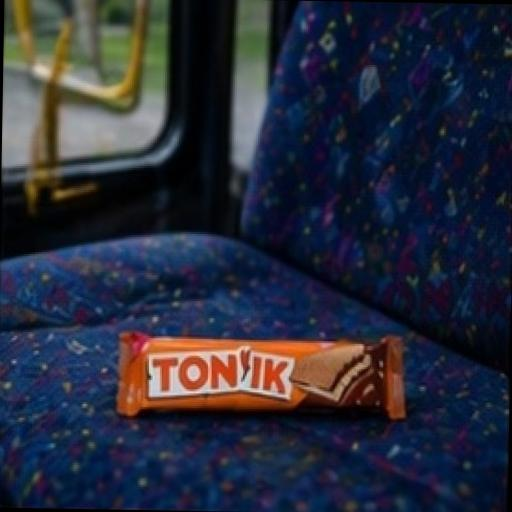tonik: (50, 247, 438, 473)
